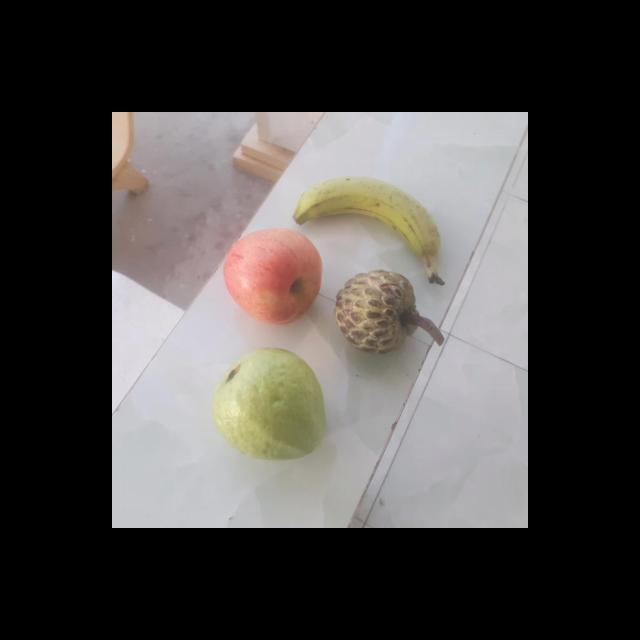Sakya fruit: (332, 269, 418, 355)
apple: (218, 228, 324, 324)
banana: (288, 181, 442, 285)
guava: (207, 352, 329, 461)
